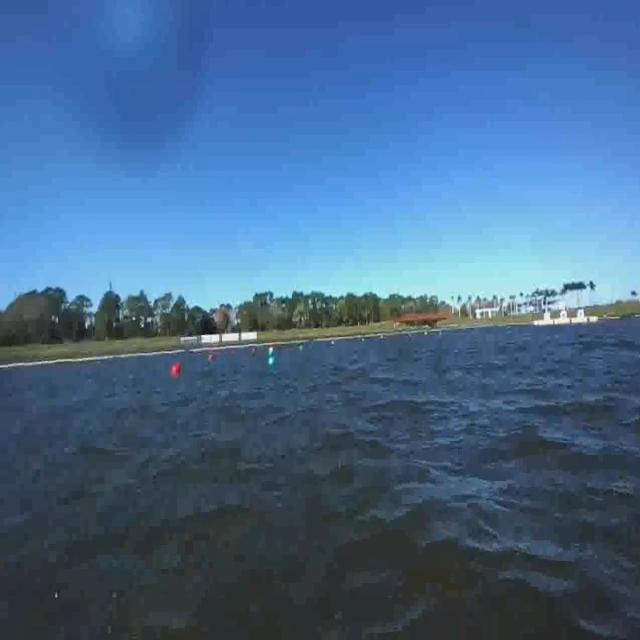green-buoy: (268, 358, 276, 372)
red-buoy: (170, 357, 182, 380)
